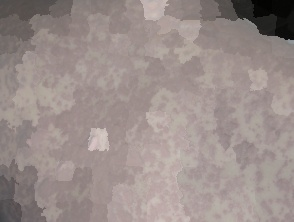SJS-TEN: (1, 9, 294, 222)
